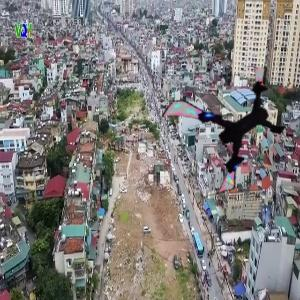drone: (173, 75, 293, 195)
